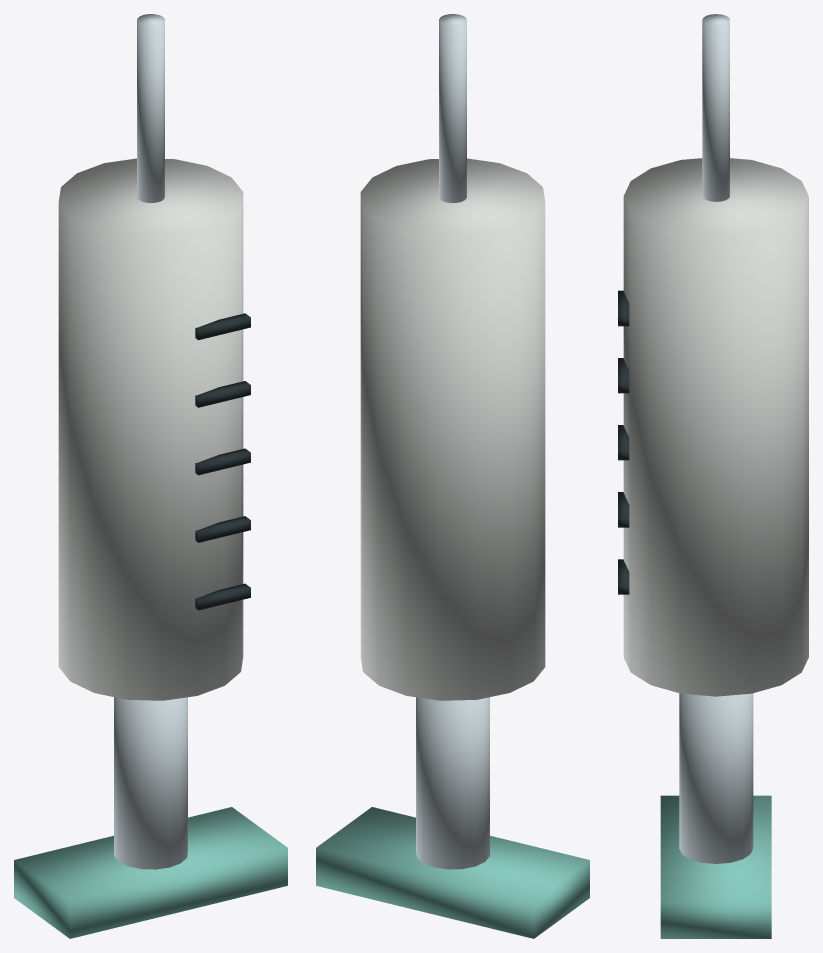
File: tool-vaccine.glb
The picture shows the model from 3 angles, left to right: view 1: azimuth 30°, elevation 25°; view 2: azimuth 150°, elevation 25°; view 3: azimuth 270°, elevation 25°; orthographic projection.
Parts seen in each view (by area): view 1: barrel, thumb pad.002, plunger.002, tip.002, measurement mark.012, measurement mark.011, measurement mark.013, measurement mark.014, measurement mark.010; view 2: barrel, thumb pad.002, plunger.002, tip.002; view 3: barrel, plunger.002, thumb pad.002, tip.002.
Boxes of the visible parts, x1,y1,x2,y2 form: barrel: (58,158,243,700); thumb pad.002: (14,807,287,938); plunger.002: (114,697,187,869); tip.002: (137,14,164,202); measurement mark.012: (195,448,250,475); measurement mark.011: (195,516,250,542); measurement mark.013: (195,381,250,407); measurement mark.014: (195,313,250,340); measurement mark.010: (195,583,250,610); barrel: (360,158,545,700); thumb pad.002: (316,807,589,938); plunger.002: (416,697,489,869); tip.002: (439,14,466,202); barrel: (623,158,808,696); plunger.002: (679,693,753,863); thumb pad.002: (660,795,771,938); tip.002: (702,14,729,201).
Bounding box in the file's own units: 0.27 × 1.03 × 0.206.
